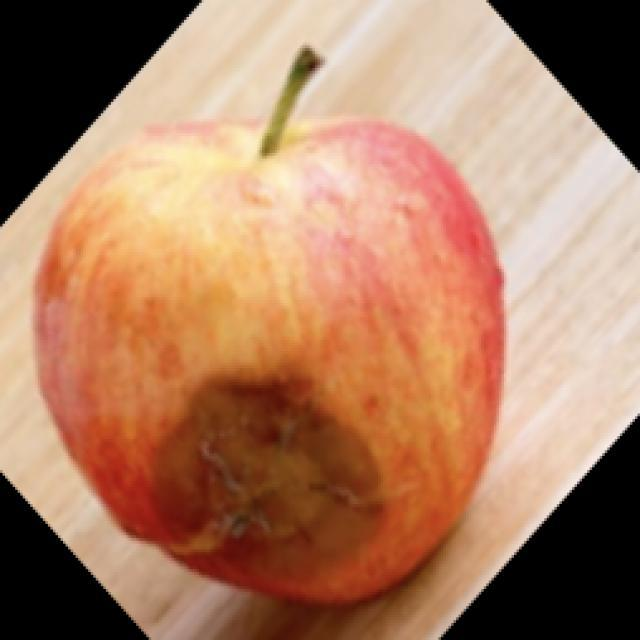Rotten: (57, 132, 508, 633)
